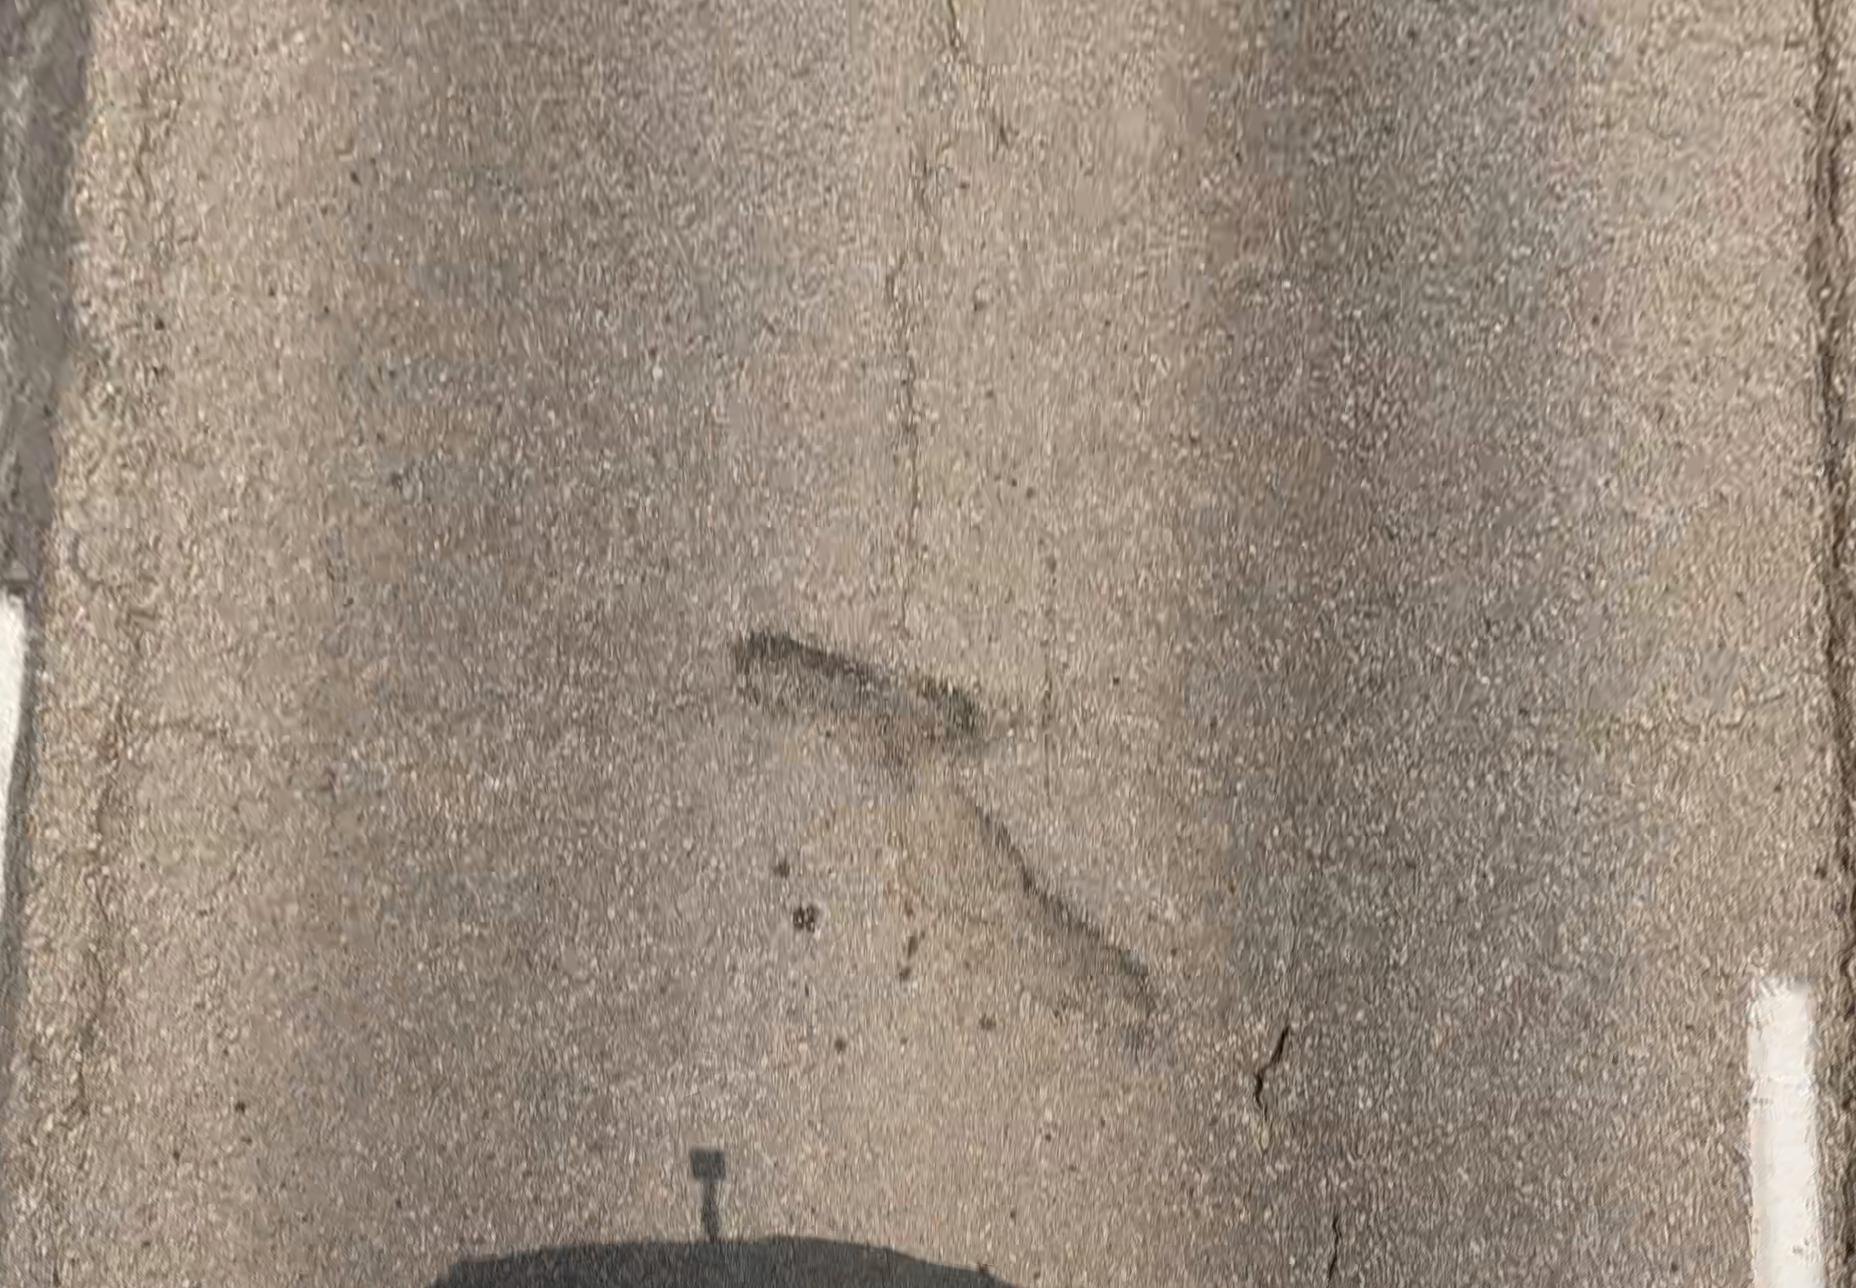pothole_patch_poor: (735, 632, 1162, 1051)
